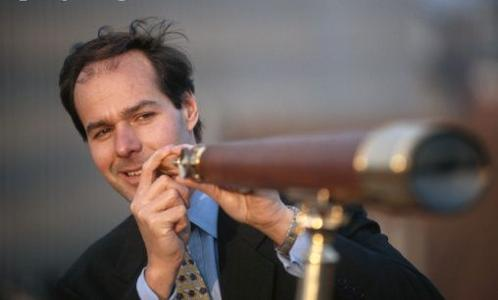person: (49, 29, 445, 300)
